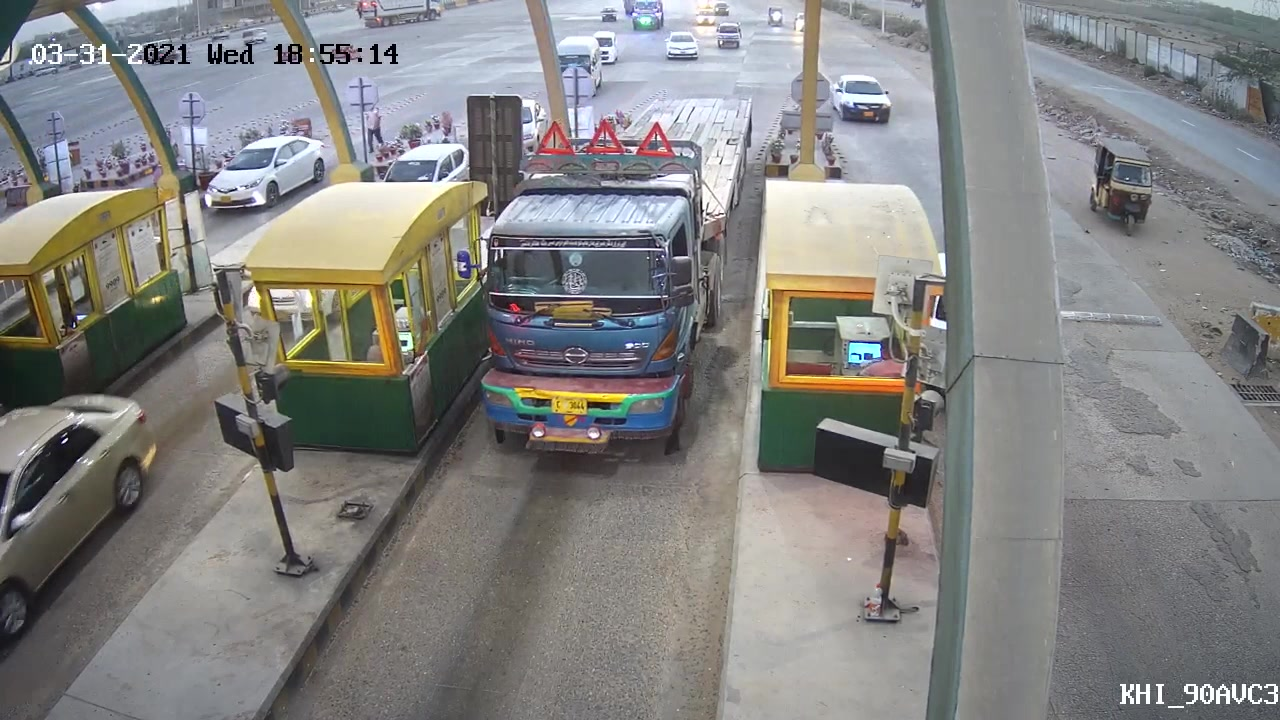F6: (473, 87, 760, 446)
